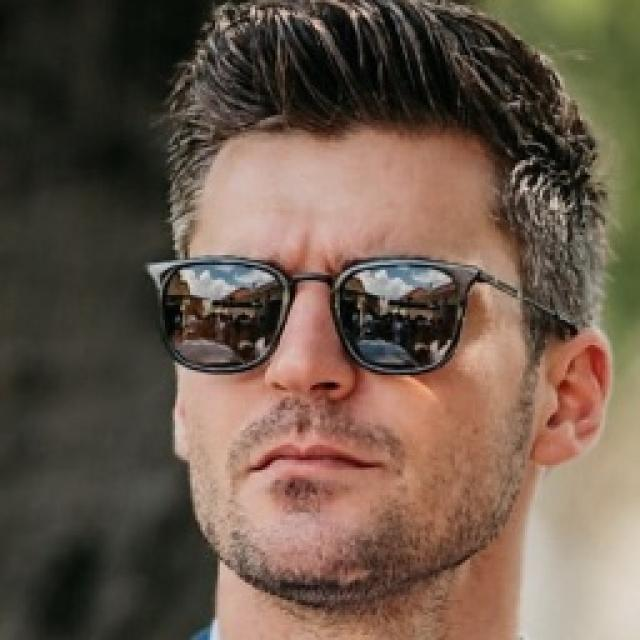glasses: (125, 226, 487, 378)
